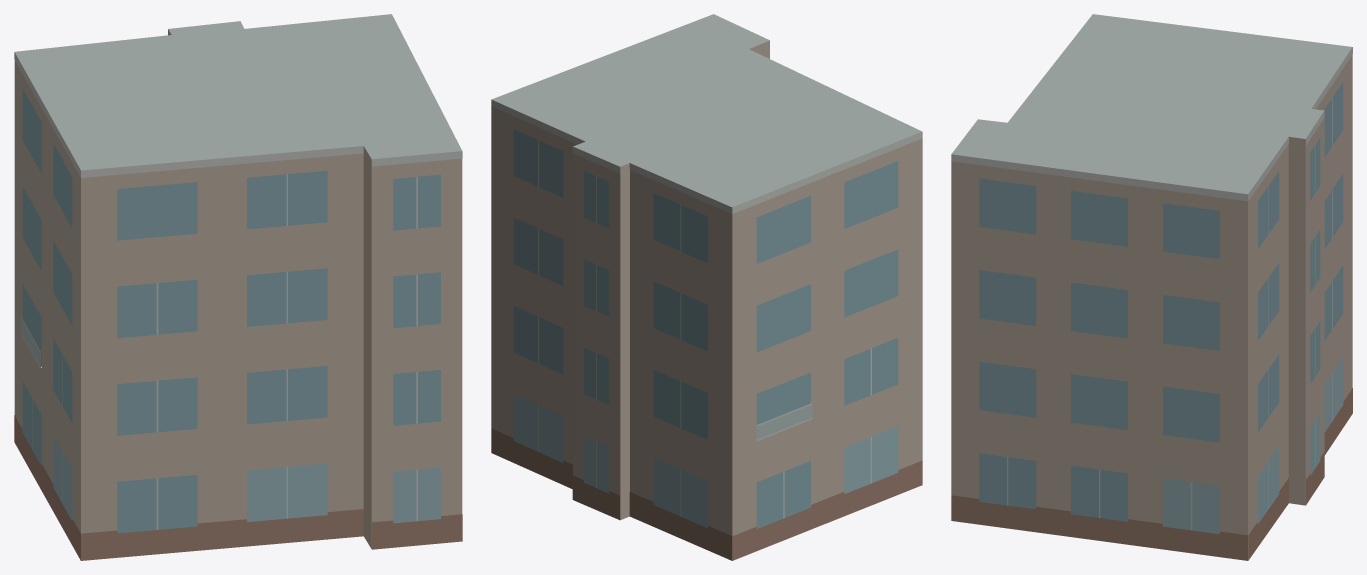
Rendered from survey-upis-32804672.glb.
The picture shows the model from 3 angles, left to right: view 1: azimuth 30°, elevation 25°; view 2: azimuth 150°, elevation 25°; view 3: azimuth 270°, elevation 25°; orthographic projection. The views are drawn at different scales.
Parts seen in each view (by area): view 1: survey-upis-32804672.tmp; view 2: survey-upis-32804672.tmp; view 3: survey-upis-32804672.tmp.
Part boxes in pixels (box(x1,y1,x2,y2)): survey-upis-32804672.tmp: box(14, 14, 462, 560); survey-upis-32804672.tmp: box(491, 14, 922, 560); survey-upis-32804672.tmp: box(951, 14, 1352, 560).
Size of the model in its own units: 13.52 by 12.8 by 12.72.
